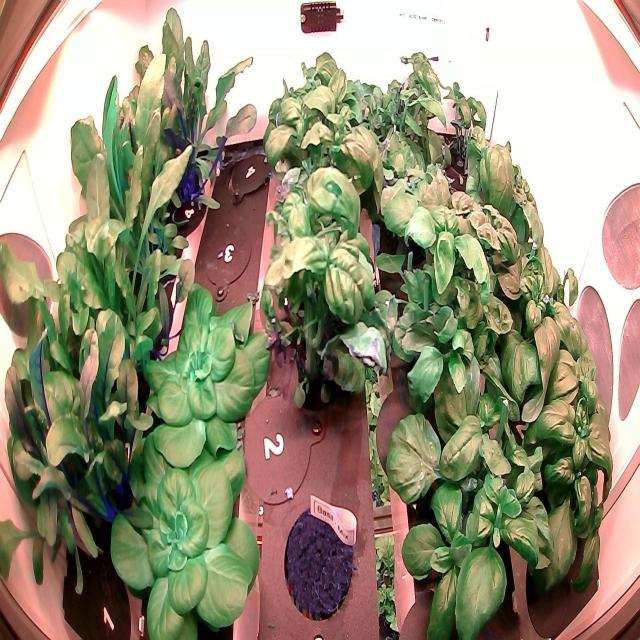empty_pod: (195, 214, 257, 305), (226, 137, 276, 212)
pod: (280, 492, 358, 622)
young: (106, 424, 265, 640), (132, 280, 277, 472)
